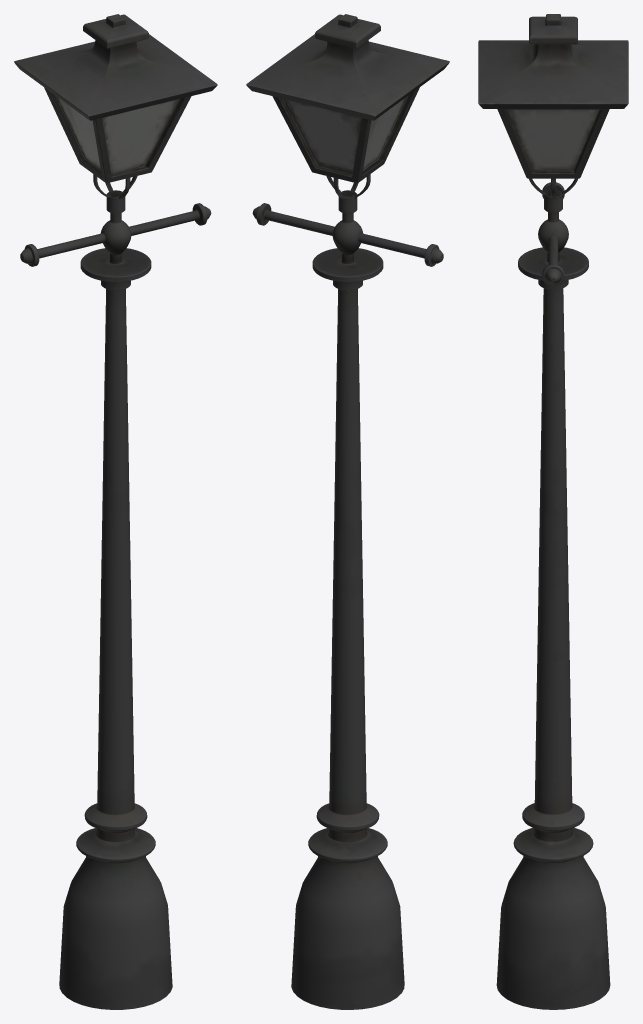
Rendered from SM_LightPole_A5_fbf157.glb.
The picture shows the model from 3 angles, left to right: view 1: azimuth 30°, elevation 25°; view 2: azimuth 150°, elevation 25°; view 3: azimuth 270°, elevation 25°; orthographic projection.
Size of the model in its own units: 0.5939 by 2.92 by 0.4091.
Materials: 1 (1 with a texture image).
